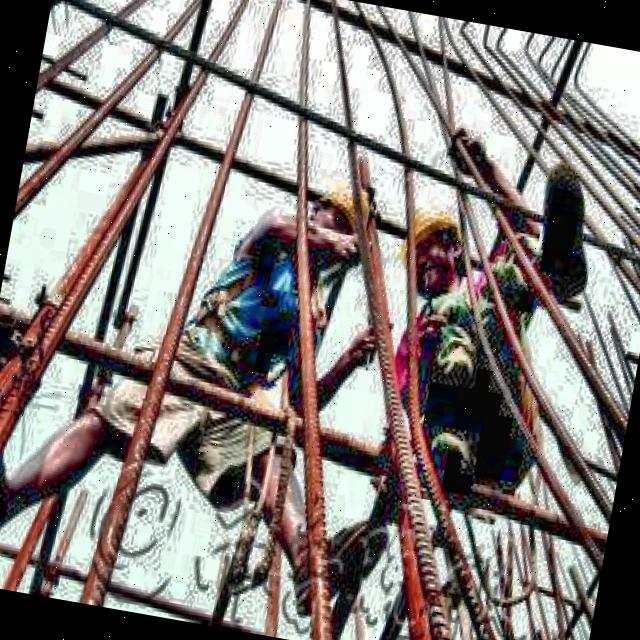helmet: (387, 190, 487, 302), (296, 172, 380, 280)
